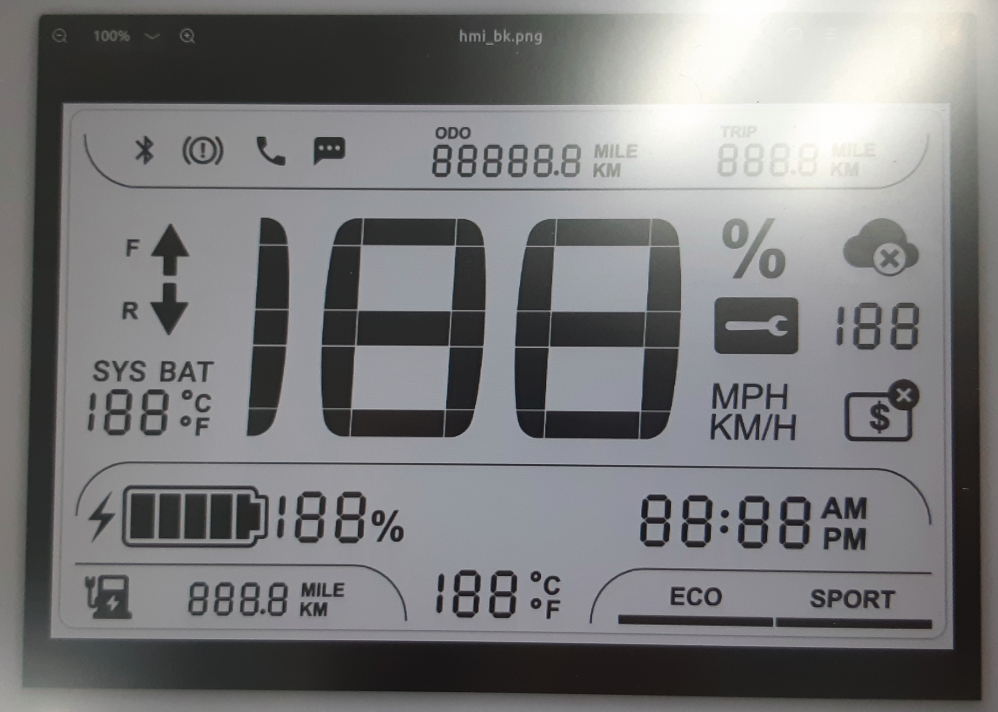bluetooth_on: (131, 131, 159, 168)
braking_on: (177, 130, 228, 172)
calling_on: (252, 133, 291, 169)
connection_lost: (836, 213, 928, 280)
error_code: (707, 291, 806, 360)
low_battery: (80, 570, 140, 623)
sms_on: (308, 132, 351, 169)
vin_id: (838, 375, 922, 449)
